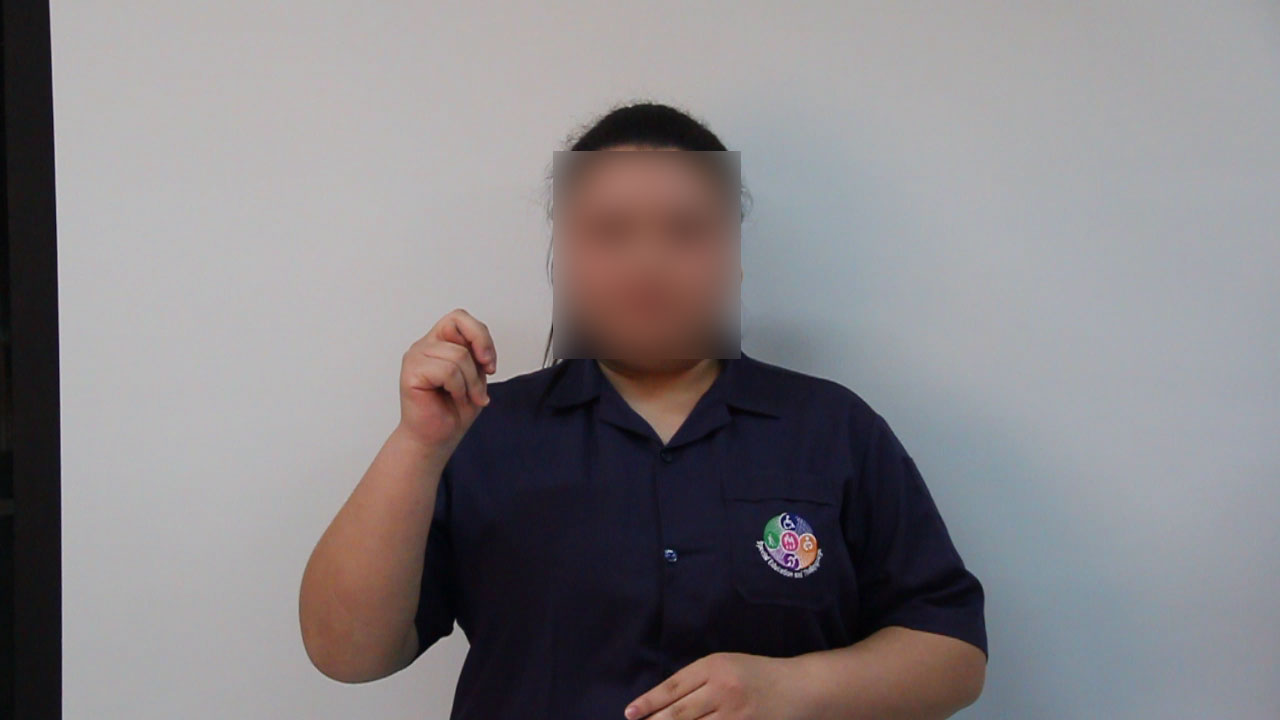nor: (372, 299, 506, 448)
